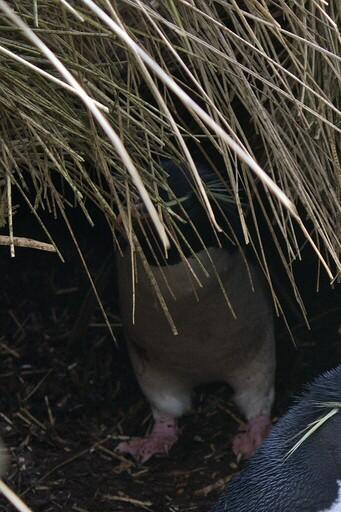Southern Rockhopper Penguin: (60, 124, 334, 488), (126, 330, 341, 512)
